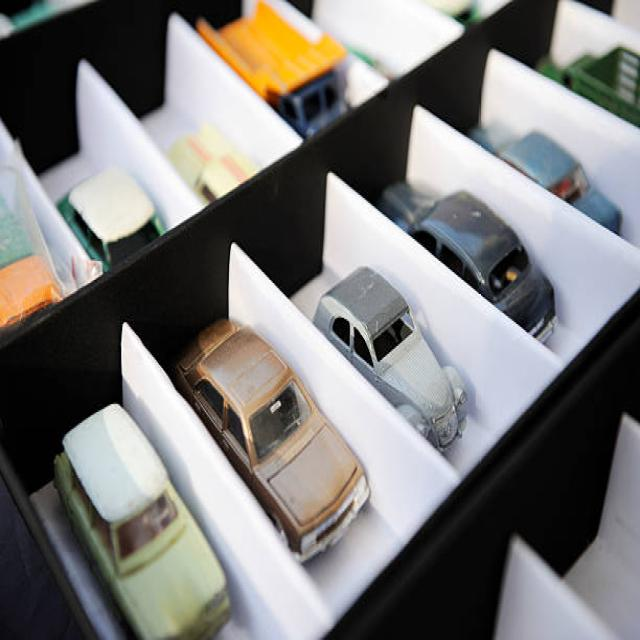Car: (172, 316, 370, 565), (312, 264, 468, 450)
